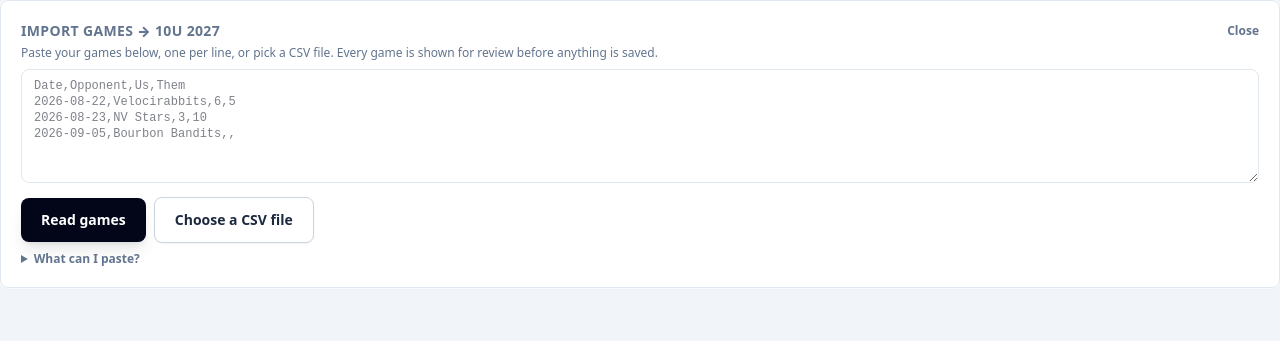
reading what was pasted › puts every row up for review rather than saving any of them
Click the text box named "Games to import": (640, 126) [21,69,1259,183]
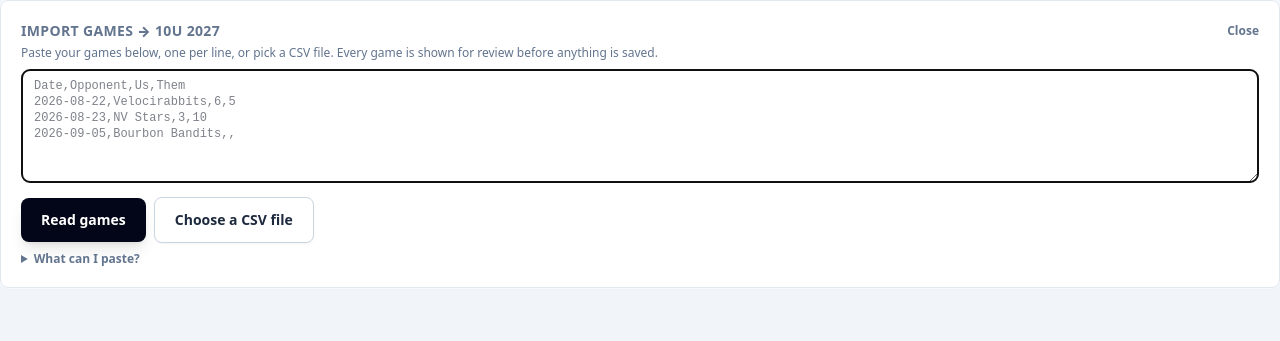
Type keys "Date,Opponent,Us,Them 2026-08-22,Velocirabbits,6,5 2026-08-23,NV Stars,3,10"
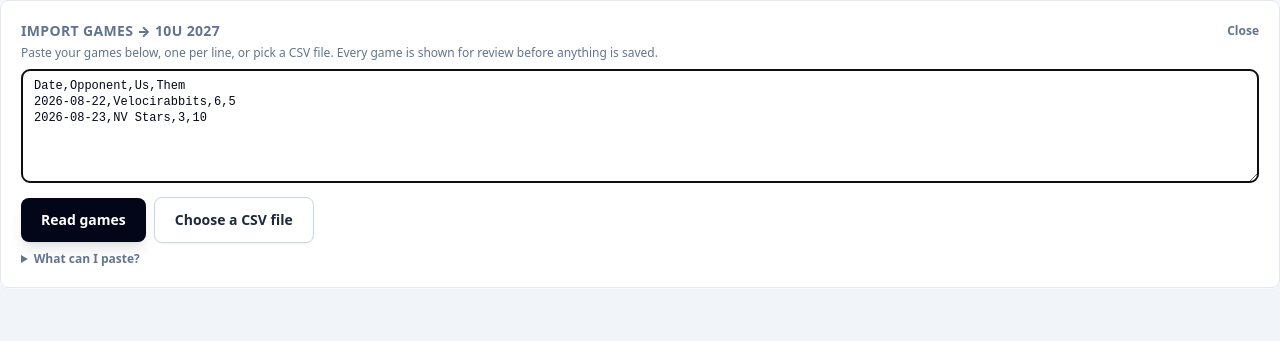
Click the button "Read games": (83, 220) [21,198,146,242]
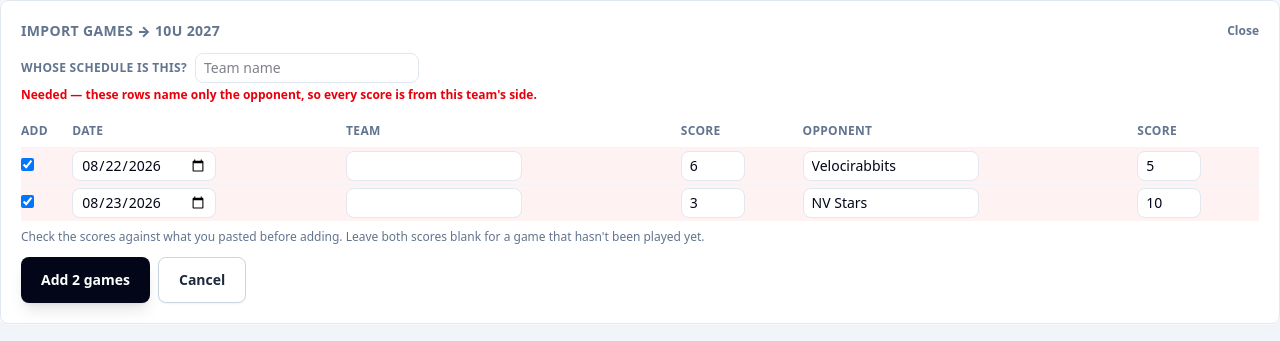
expect the button "Add 2 games" is shown: met, box [21,257,150,303]
